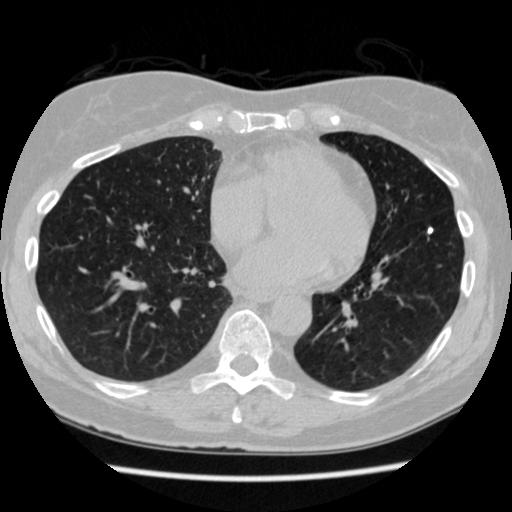nodule: (425, 225, 436, 236)
